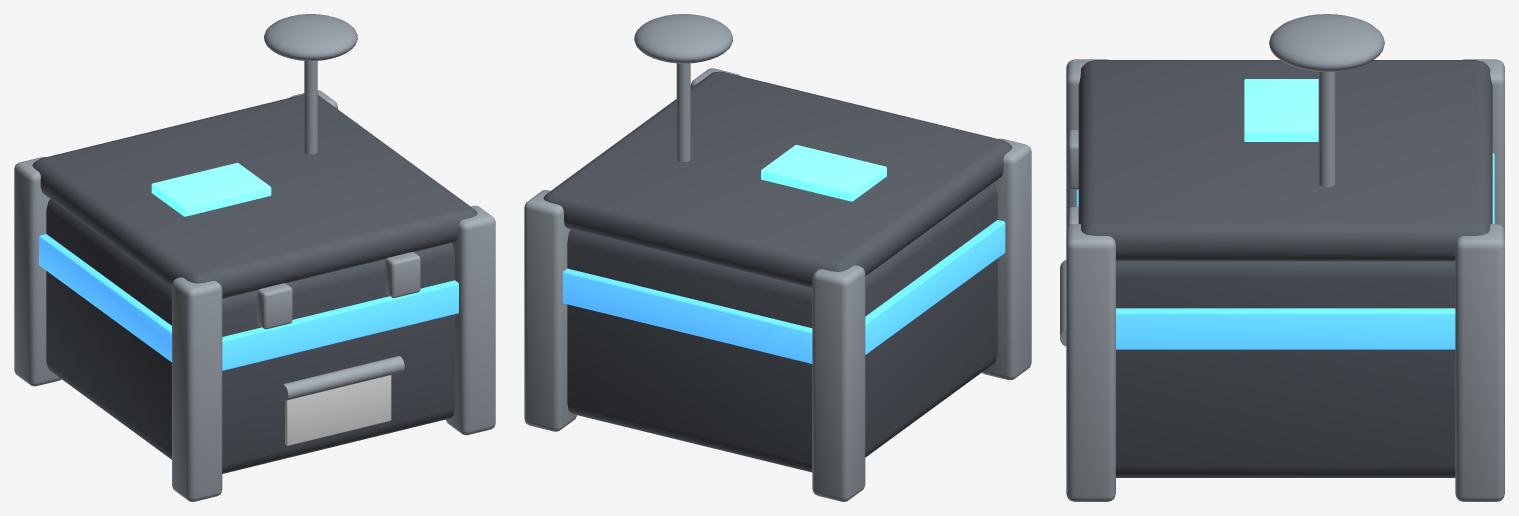
File: crate_logger.glb
The picture shows the model from 3 angles, left to right: view 1: azimuth 30°, elevation 25°; view 2: azimuth 150°, elevation 25°; view 3: azimuth 270°, elevation 25°; orthographic projection. The views are drawn at different scales.
Visible parts, largest first — view 1: Cube, case, Cube.005, Cube.001, Cube.003, Cube.002, Cube.008, Cube.009, Sphere, Cylinder, Cube.006, Cube.007 (+1 smaller); view 2: case, Cube, Cube.005, Cube.002, Cube.004, Cube.001, Cube.009, Sphere, Cylinder.001; view 3: Cube, case, Cube.005, Cube.004, Cube.003, Sphere, Cube.009, Cube.002, Cylinder.001, Cube.001, Cube.006, Cylinder.
Boxes of the visible parts, x1,y1,x2,y2 form: Cube: (32,94,477,298); case: (46,199,454,473); Cube.005: (39,234,458,370); Cube.001: (172,277,222,501); Cube.003: (446,205,495,435); Cube.002: (14,157,61,386); Cube.008: (285,375,391,445); Cube.009: (151,162,271,216); Sphere: (264,14,357,61); Cylinder: (280,356,404,400); Cube.006: (257,283,292,329); Cube.007: (385,252,420,297); case: (567,183,997,472); Cube: (543,71,1012,287); Cube.005: (563,220,1005,363); Cube.002: (812,265,865,501); Cube.004: (524,190,576,431); Cube.001: (981,138,1031,380); Cube.009: (761,144,886,201); Sphere: (634,14,732,63); Cylinder.001: (676,63,690,161); Cube: (1078,60,1492,261); case: (1116,261,1455,477); Cube.005: (1076,153,1494,349); Cube.004: (1455,224,1504,501); Cube.003: (1066,224,1115,501); Sphere: (1269,14,1384,72); Cube.009: (1244,79,1318,141); Cube.002: (1462,59,1504,231); Cylinder.001: (1318,72,1335,187); Cube.001: (1066,59,1108,230); Cube.006: (1068,130,1078,189); Cylinder: (1060,260,1066,346).
Size of the model in its own units: 1.06 by 1.14 by 1.07.
